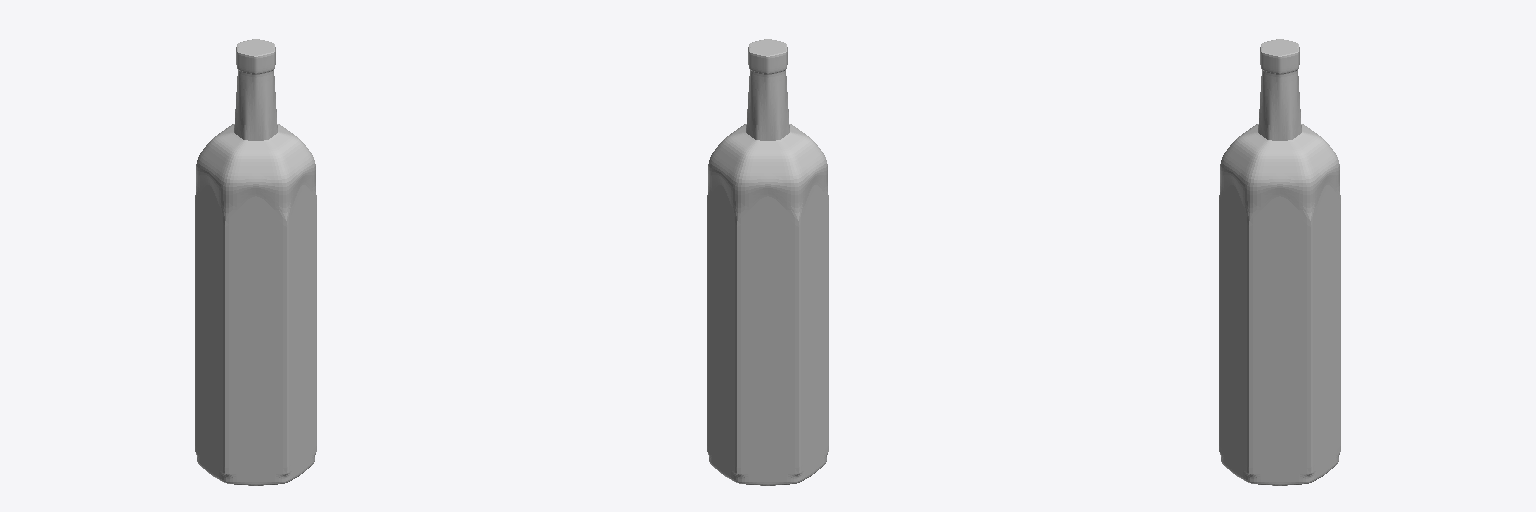
File: bottle_liquor_ultra.obj
The picture shows the model from 3 angles: view 1: azimuth 30°, elevation 25°; view 2: azimuth 150°, elevation 25°; view 3: azimuth 270°, elevation 25°; orthographic projection.
Visible parts, largest first — view 1: liquor_bottle_Circle.002; view 2: liquor_bottle_Circle.002; view 3: liquor_bottle_Circle.002.
Part boxes in pixels (bbox=[...]): liquor_bottle_Circle.002: bbox=[195, 39, 316, 485]; liquor_bottle_Circle.002: bbox=[707, 39, 828, 485]; liquor_bottle_Circle.002: bbox=[1219, 39, 1340, 485].
Bounding box in the file's own units: 2.33 × 9.93 × 2.64.